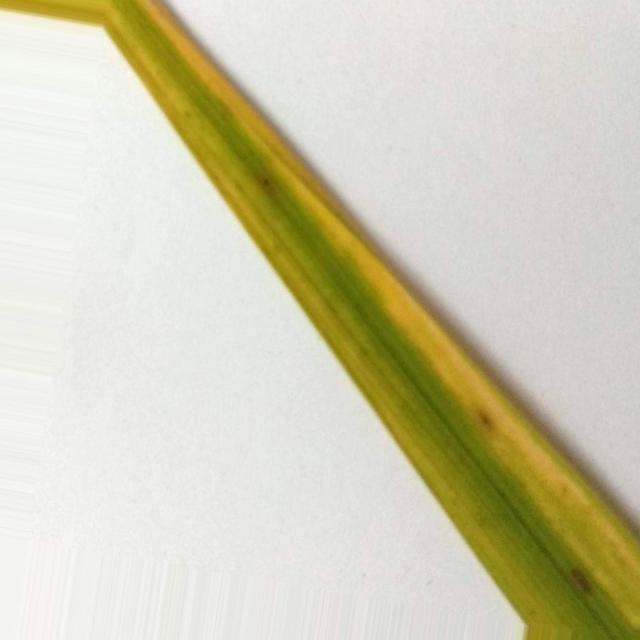Brown_Spot: (568, 566, 592, 594), (476, 409, 494, 432), (259, 174, 274, 188)
